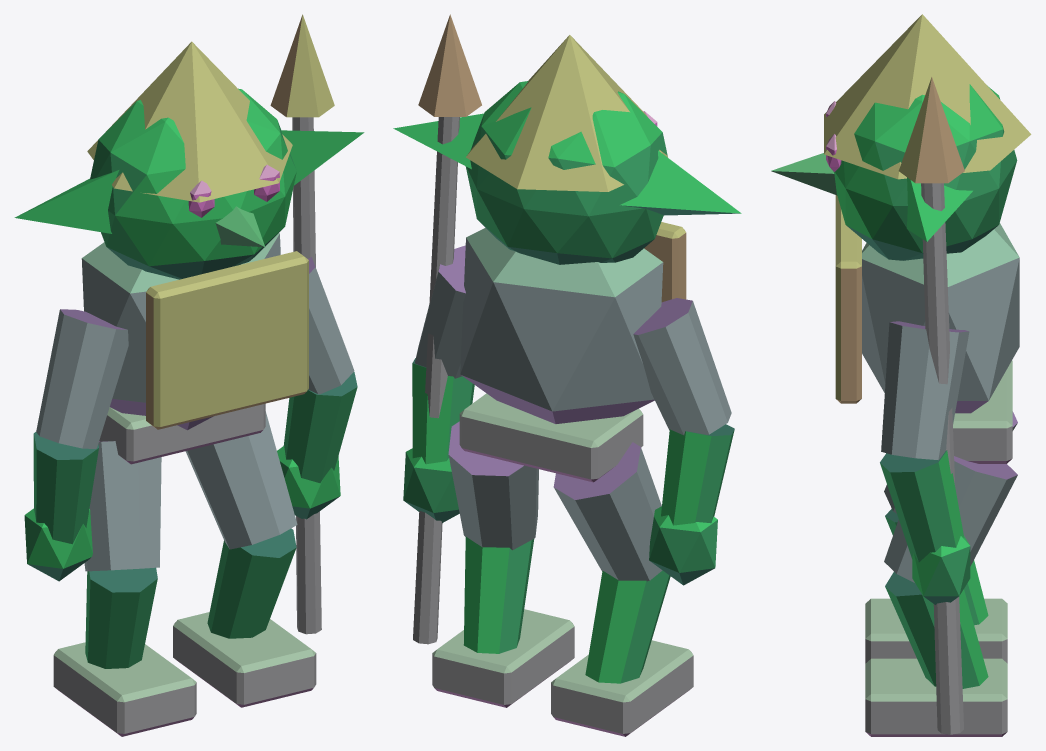
The model's file is creature_goblin_raider_contact_b_v01.glb.
3 views of the same model, side by side, from view 1: azimuth 30°, elevation 25°; view 2: azimuth 150°, elevation 25°; view 3: azimuth 270°, elevation 25° (orthographic). The views are drawn at different scales.
Parts seen in each view (by area): view 1: GEO_creature_goblin_raider_contact_b_v01; view 2: GEO_creature_goblin_raider_contact_b_v01; view 3: GEO_creature_goblin_raider_contact_b_v01.
Part boxes in pixels (x1,y1,x2,y2): GEO_creature_goblin_raider_contact_b_v01: (14,14,364,736); GEO_creature_goblin_raider_contact_b_v01: (393,14,741,736); GEO_creature_goblin_raider_contact_b_v01: (771,14,1031,736).
Size of the model in its own units: 0.88 by 1.57 by 0.55.
